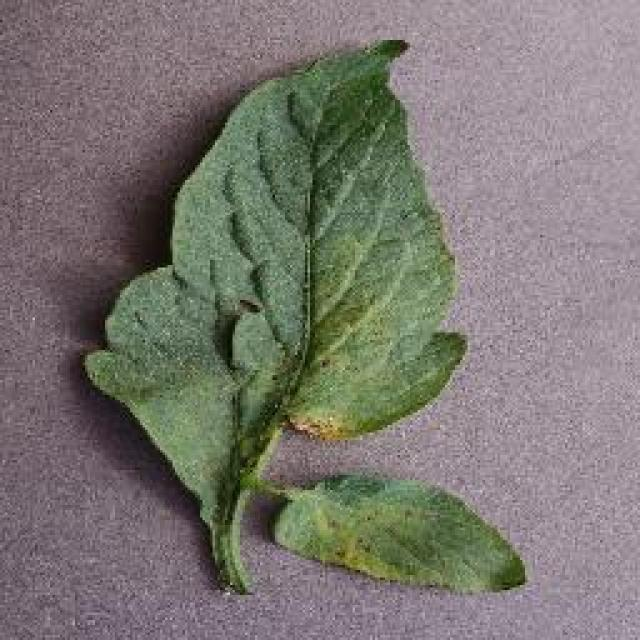Tomato Septoria spot leaf: (77, 34, 465, 504), (268, 475, 532, 593)
